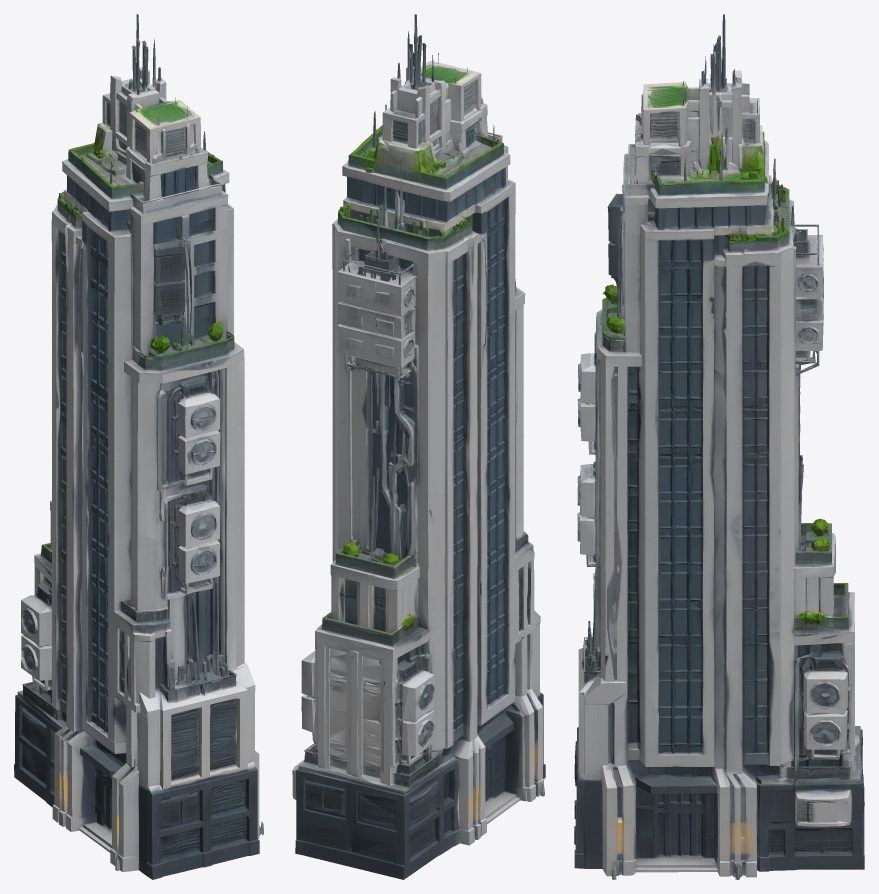
The picture shows the model from 3 angles, left to right: view 1: azimuth 30°, elevation 25°; view 2: azimuth 150°, elevation 25°; view 3: azimuth 270°, elevation 25°; orthographic projection. The views are drawn at different scales.
Parts seen in each view (by area): view 1: model; view 2: model; view 3: model.
Boxes of the visible parts, bbox=[...] form: model: bbox=[14, 14, 263, 879]; model: bbox=[292, 14, 545, 879]; model: bbox=[574, 14, 864, 879].
Size of the model in its own units: 0.3683 by 1.89 by 0.6011.
Materials: 1 (1 with a texture image).
